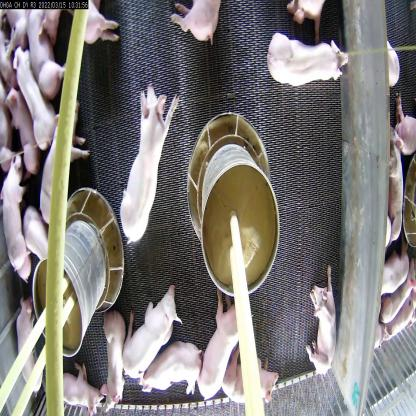Pig: (118, 84, 182, 241), (262, 28, 354, 104), (41, 113, 94, 234), (122, 290, 181, 387), (3, 50, 55, 156), (0, 157, 35, 289), (99, 311, 143, 416), (201, 294, 240, 402), (300, 271, 340, 374), (136, 344, 200, 406), (23, 5, 64, 100), (226, 342, 276, 415), (14, 304, 46, 407)
